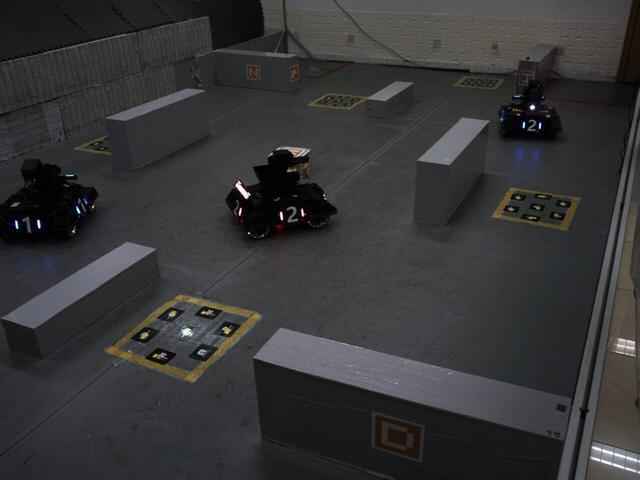armor: (273, 201, 308, 228), (10, 213, 46, 237), (224, 198, 247, 222), (521, 116, 547, 136), (71, 194, 91, 218)
